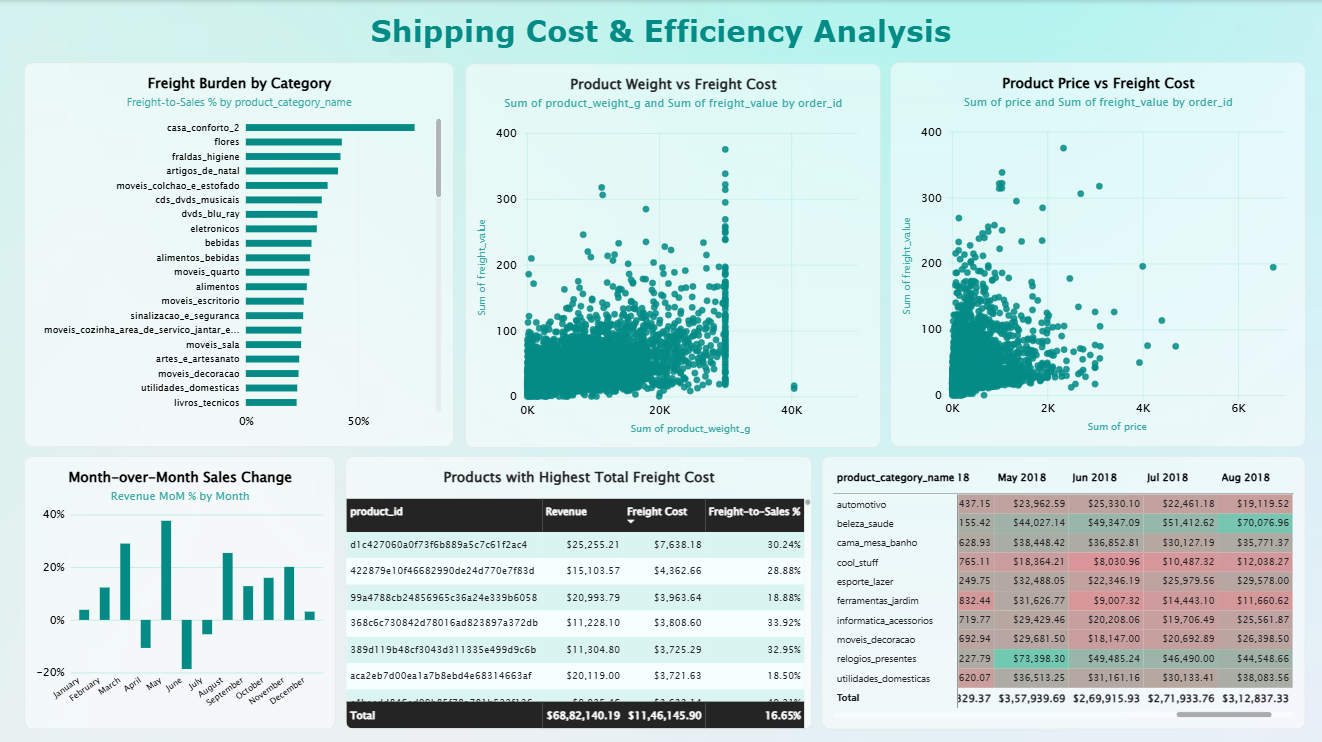

What the dashboard file says about the page in this screenshot:
{"tool":"powerbi","page":{"name":"Shipping Analysis","canvas":[1920,1080],"ordinal":2},"visuals":[{"type":"clusteredBarChart","title":"Freight Burden by Category","fields":{"Category":["data.product_category_name"],"Y":["data.Freight-to-Sales %"]},"box":[37.5,90,621.2,556.2],"z":0},{"type":"scatterChart","title":"Product Weight vs Freight Cost","fields":{"Category":["data.order_id"],"X":["Sum(data.product_weight_g)"],"Y":["Sum(data.freight_value)"]},"box":[676.2,91.7,600.6,555.8],"z":1000,"group":"g1"},{"type":"tableEx","title":"Products with Highest Total Freight Cost","fields":{"Values":["data.product_id","data.Revenue","data.Freight Cost","data.Freight-to-Sales %"]},"box":[503.3,660,675,395],"z":1000},{"type":"scatterChart","title":"Product Price vs Freight Cost","fields":{"Category":["data.order_id"],"X":["Sum(data.price)"],"Y":["Sum(data.freight_value)"]},"box":[1290.6,90,600.6,555.8],"z":2000,"group":"g1"},{"type":"clusteredColumnChart","title":"Month-over-Month Sales Change","fields":{"Category":["DimDate.Month"],"Y":["data.Revenue MoM %"]},"box":[38.3,660,450,395],"z":2000},{"type":"pivotTable","fields":{"Columns":["DimDate.MonthYear"],"Rows":["data.product_category_name"],"Values":["data.Revenue"]},"box":[1192.2,660,700,395.6],"z":3000},{"type":"textbox","box":[0,18.1,1920.1,63.3],"z":4000},{"type":"group","id":"g1","title":"Group 1","box":[676.2,90,1215,557.5],"z":5000}]}

Visuals, with their boxes in screenshot pixels (x1, y1, x2, y2), scaled from the page's 1920x1080 canvas onto the 1322x742 screenshot:
"Freight Burden by Category" clusteredBarChart: (left=26, top=62, right=454, bottom=444)
"Product Weight vs Freight Cost" scatterChart: (left=466, top=63, right=879, bottom=445)
"Products with Highest Total Freight Cost" tableEx: (left=347, top=453, right=811, bottom=725)
"Product Price vs Freight Cost" scatterChart: (left=889, top=62, right=1302, bottom=444)
"Month-over-Month Sales Change" clusteredColumnChart: (left=26, top=453, right=336, bottom=725)
pivotTable - DimDate.MonthYear x data.product_category_name: (left=821, top=453, right=1303, bottom=725)
textbox: (left=0, top=12, right=1321, bottom=56)
"Group 1" group: (left=466, top=62, right=1302, bottom=445)
